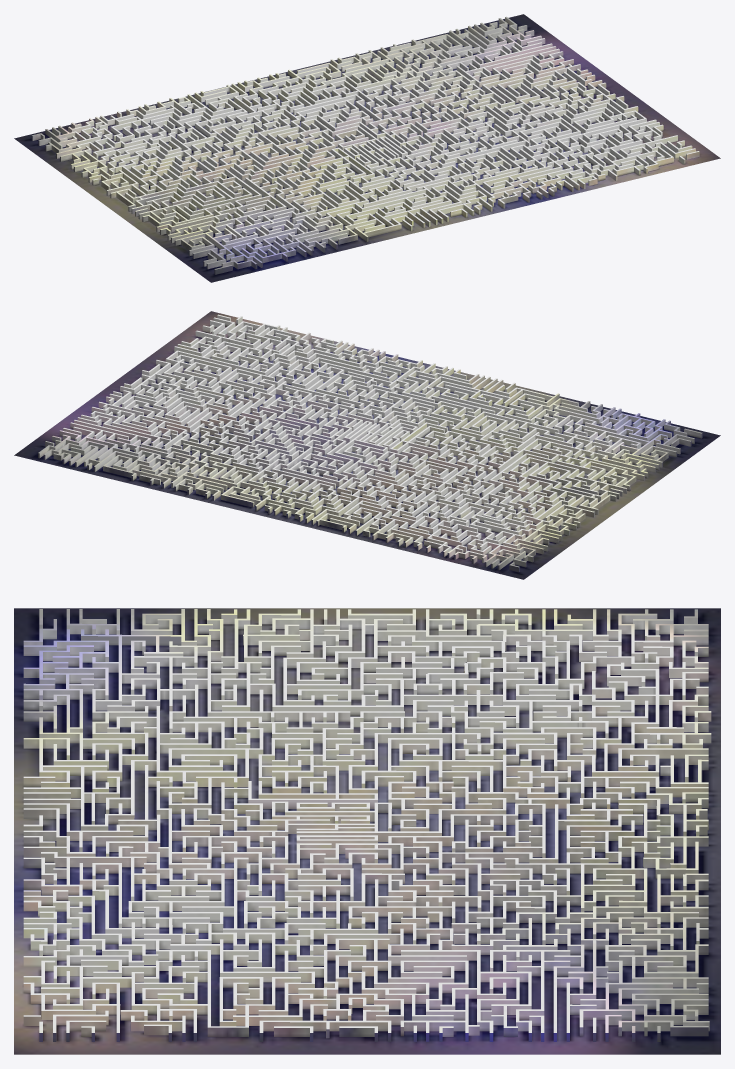
Rendered from maze.obj.
The picture shows the model from 3 angles, top to bottom: view 1: azimuth 30°, elevation 25°; view 2: azimuth 150°, elevation 25°; view 3: azimuth 270°, elevation 25°; orthographic projection. The views are drawn at different scales.
Parts seen in each view (by area): view 1: Sweep, Plane; view 2: Sweep, Plane; view 3: Sweep, Plane, Sweep.1.
Part boxes in pixels (bbox=[...]): Sweep: bbox=[32, 16, 699, 274]; Plane: bbox=[14, 14, 720, 282]; Sweep: bbox=[38, 314, 702, 572]; Plane: bbox=[14, 311, 720, 579]; Sweep: bbox=[23, 609, 711, 1036]; Plane: bbox=[14, 608, 720, 1054]; Sweep.1: bbox=[296, 835, 377, 848].
Size of the model in its own units: 6063 by 60.03 by 4061.
